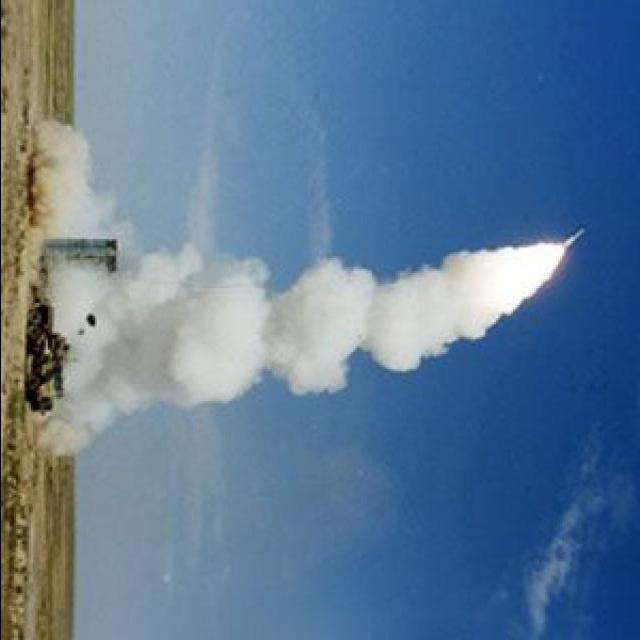missile: (564, 223, 590, 250)
